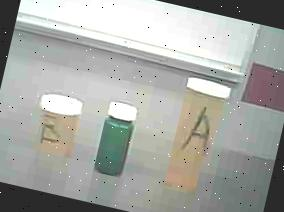Bottle A: (155, 66, 243, 206)
Bottle B: (30, 86, 90, 164)
Bottle C: (84, 94, 160, 196)
